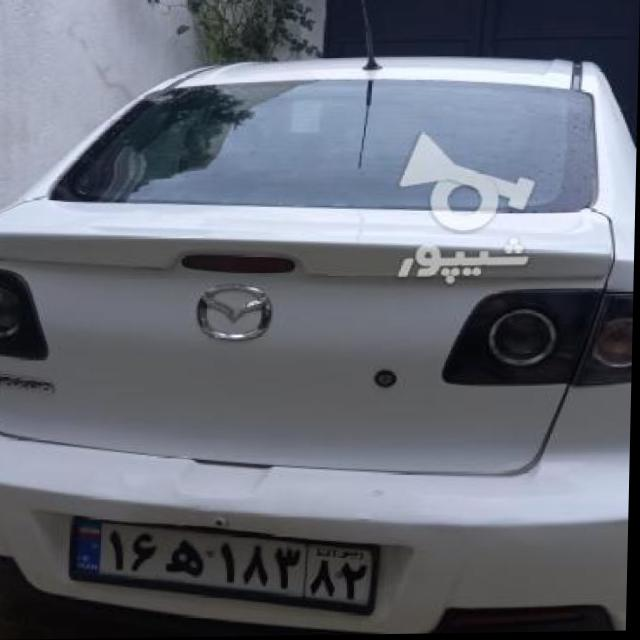licence: (71, 509, 379, 617)
